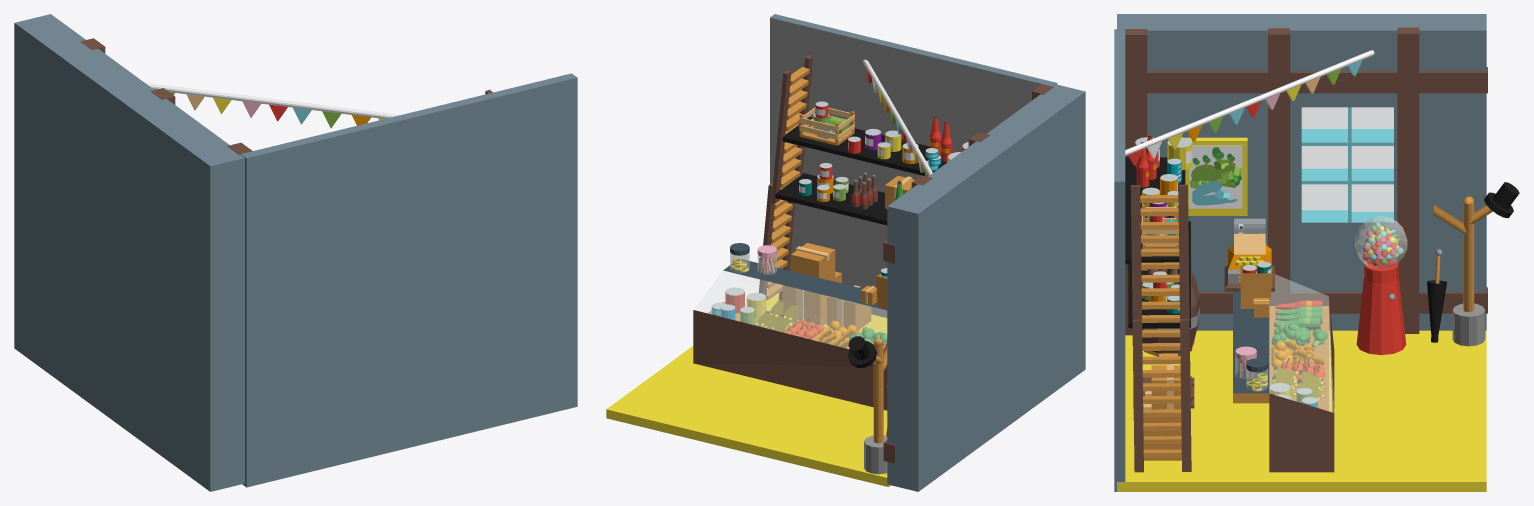
The model's file is Little Shop.glb.
The picture shows the model from 3 angles, left to right: view 1: azimuth 30°, elevation 25°; view 2: azimuth 150°, elevation 25°; view 3: azimuth 270°, elevation 25°; orthographic projection. The views are drawn at different scales.
Visible parts, largest first — view 1: Node; view 2: Node; view 3: Node.
Part boxes in pixels (x1,y1,x2,y2): Node: (14, 14, 577, 491); Node: (606, 14, 1085, 491); Node: (1114, 14, 1519, 491).
Size of the model in its own units: 1.11 by 0.9546 by 1.13.
